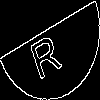R: (25, 25, 63, 81)
